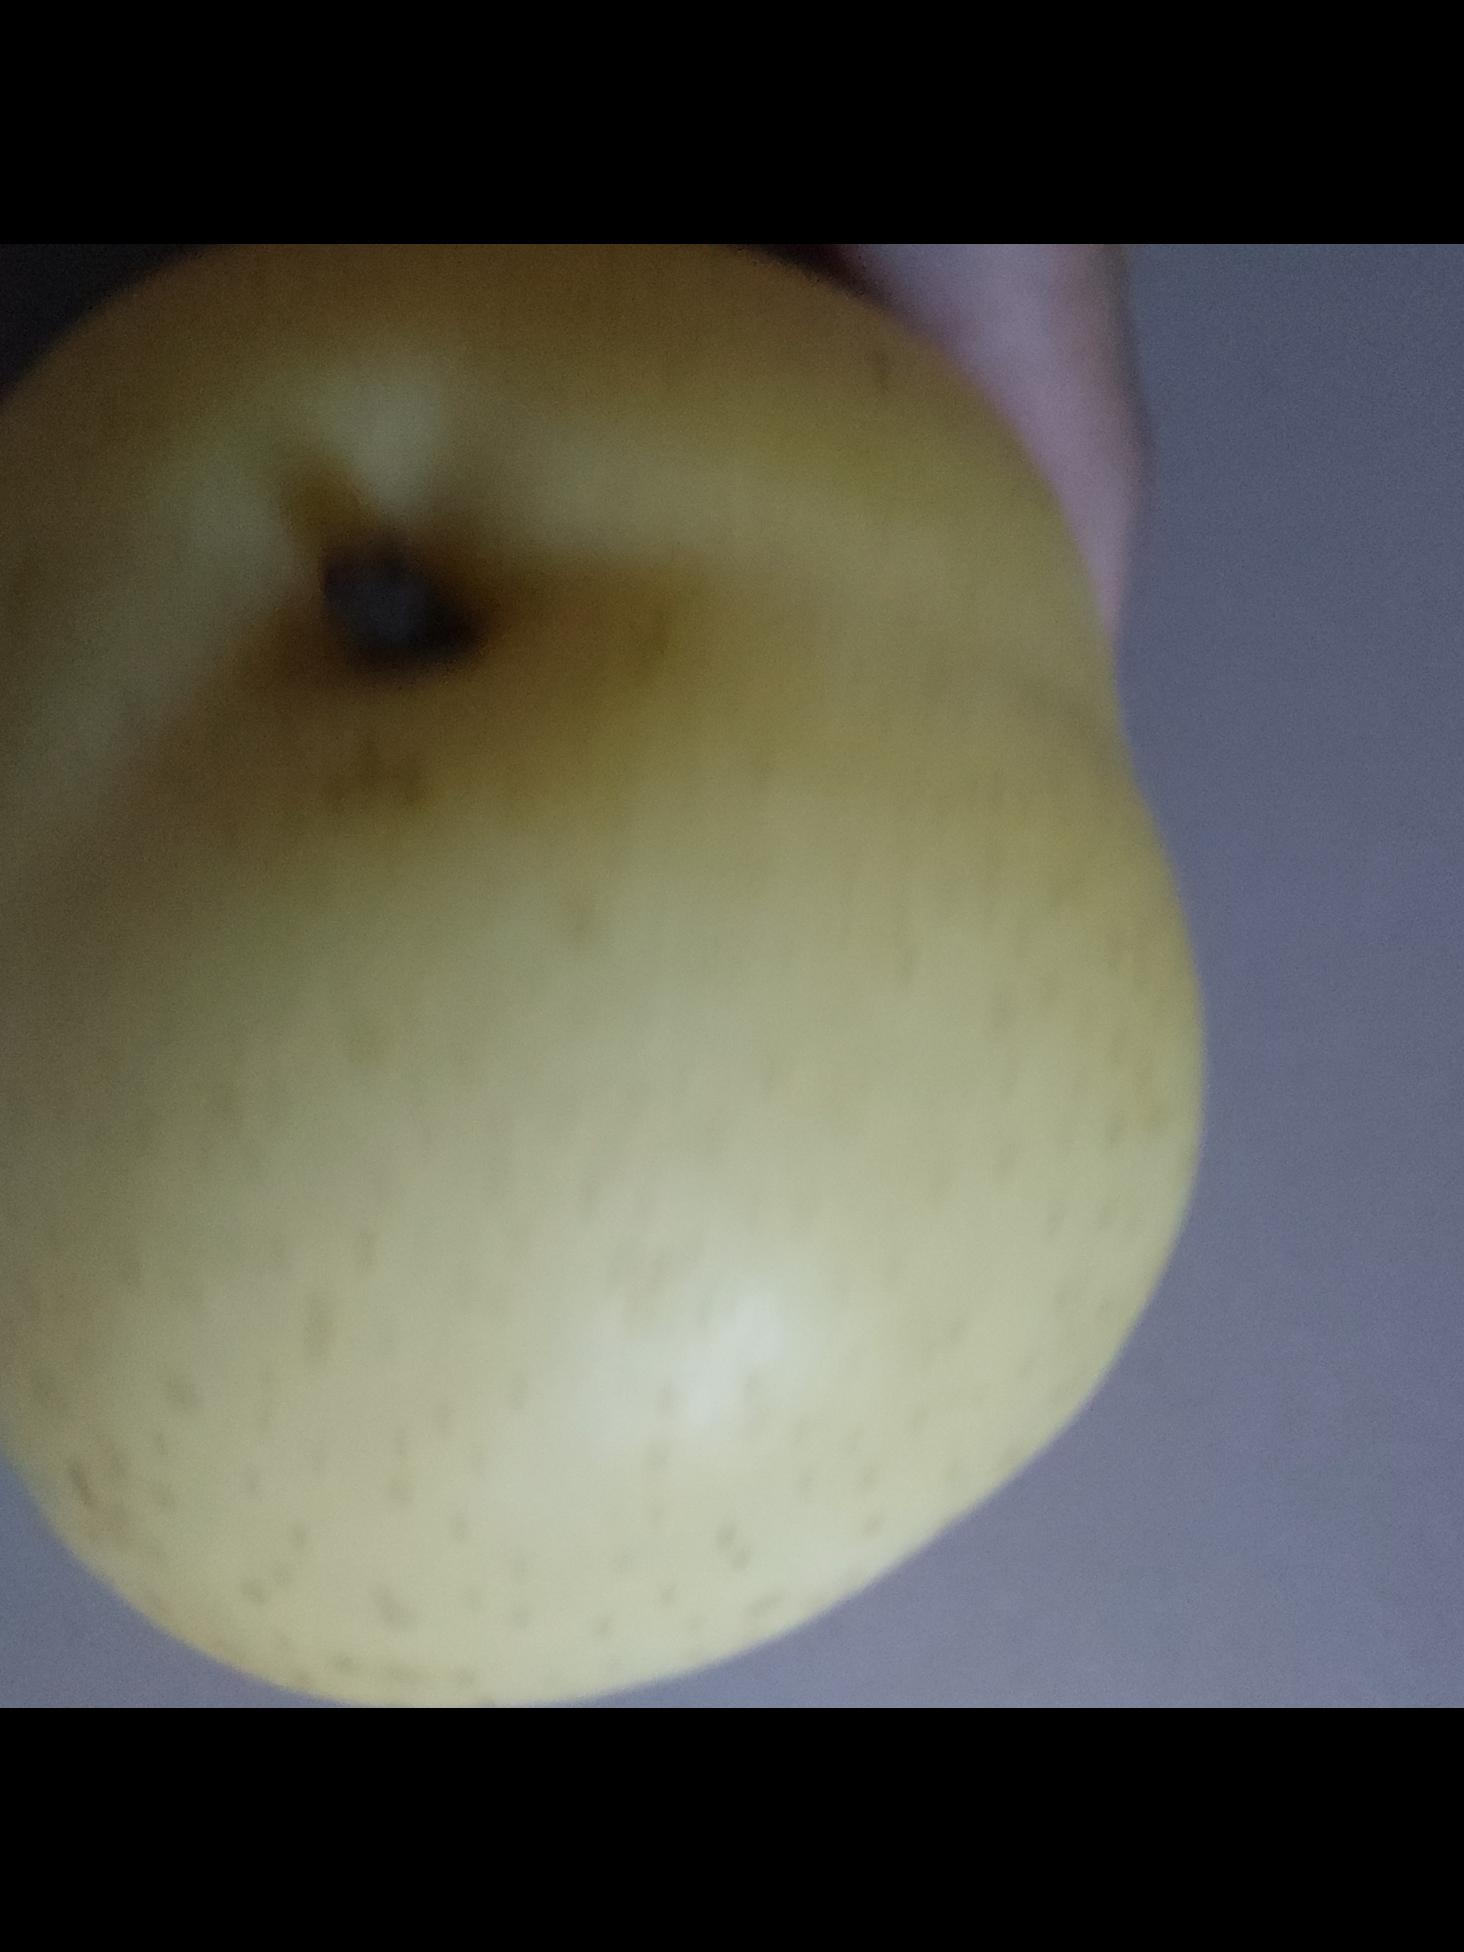Good Pear: (0, 244, 1201, 1708)
